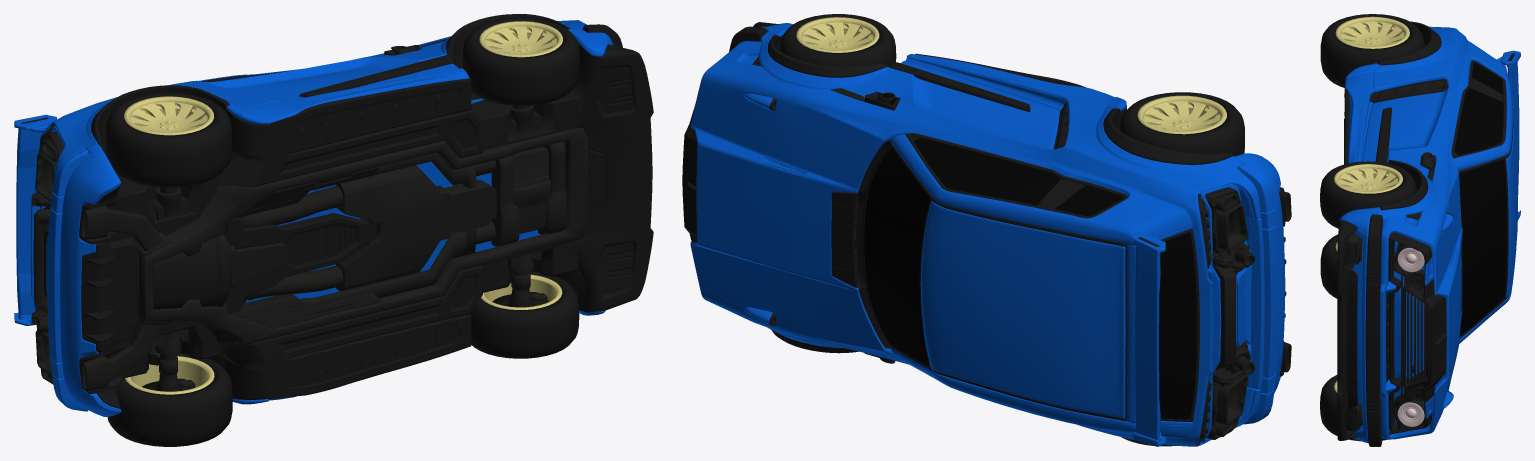
File: Fennec.fbx
3 views of the same model, side by side, from view 1: azimuth 30°, elevation 25°; view 2: azimuth 150°, elevation 25°; view 3: azimuth 270°, elevation 25° (orthographic). The views are drawn at different scales.
Parts seen in each view (by area): view 1: Fennec, Alpha - BL (Fennec), Alpha - FL (Fennec), Alpha - BR (Fennec), Alpha - FR (Fennec); view 2: Fennec, Alpha - BL (Fennec), Alpha - FL (Fennec); view 3: Fennec, Alpha - BL (Fennec), Alpha - FL (Fennec), Alpha - FR (Fennec), Alpha - BR (Fennec).
Part boxes in pixels (x1,y1,x2,y2): Fennec: [14, 14, 653, 416]; Alpha - BL (Fennec): [106, 93, 232, 187]; Alpha - FL (Fennec): [462, 18, 579, 105]; Alpha - BR (Fennec): [107, 353, 232, 446]; Alpha - FR (Fennec): [470, 271, 579, 358]; Fennec: [682, 22, 1291, 446]; Alpha - BL (Fennec): [1119, 92, 1244, 156]; Alpha - FL (Fennec): [779, 14, 896, 66]; Fennec: [1337, 21, 1520, 446]; Alpha - BL (Fennec): [1320, 14, 1424, 87]; Alpha - FL (Fennec): [1320, 161, 1416, 228]; Alpha - FR (Fennec): [1320, 375, 1387, 441]; Alpha - BR (Fennec): [1320, 234, 1337, 298].
Size of the model in its own units: 140 by 72.47 by 51.65.
